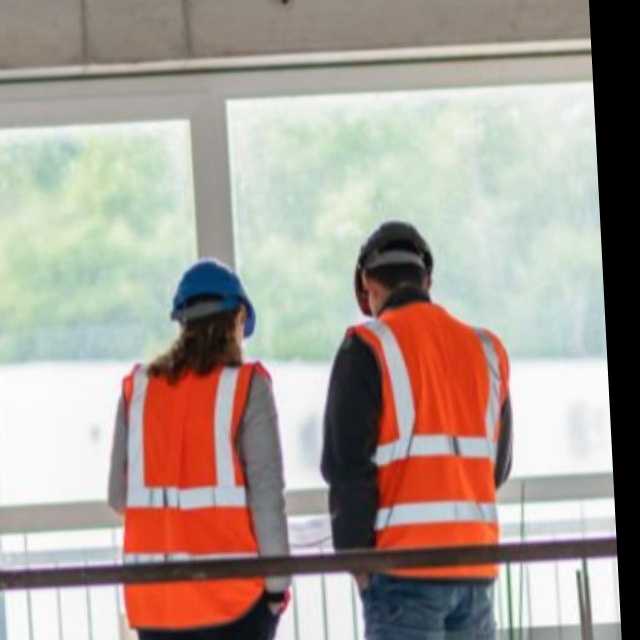Con_Chaleco: (341, 301, 519, 586), (112, 351, 294, 620)
